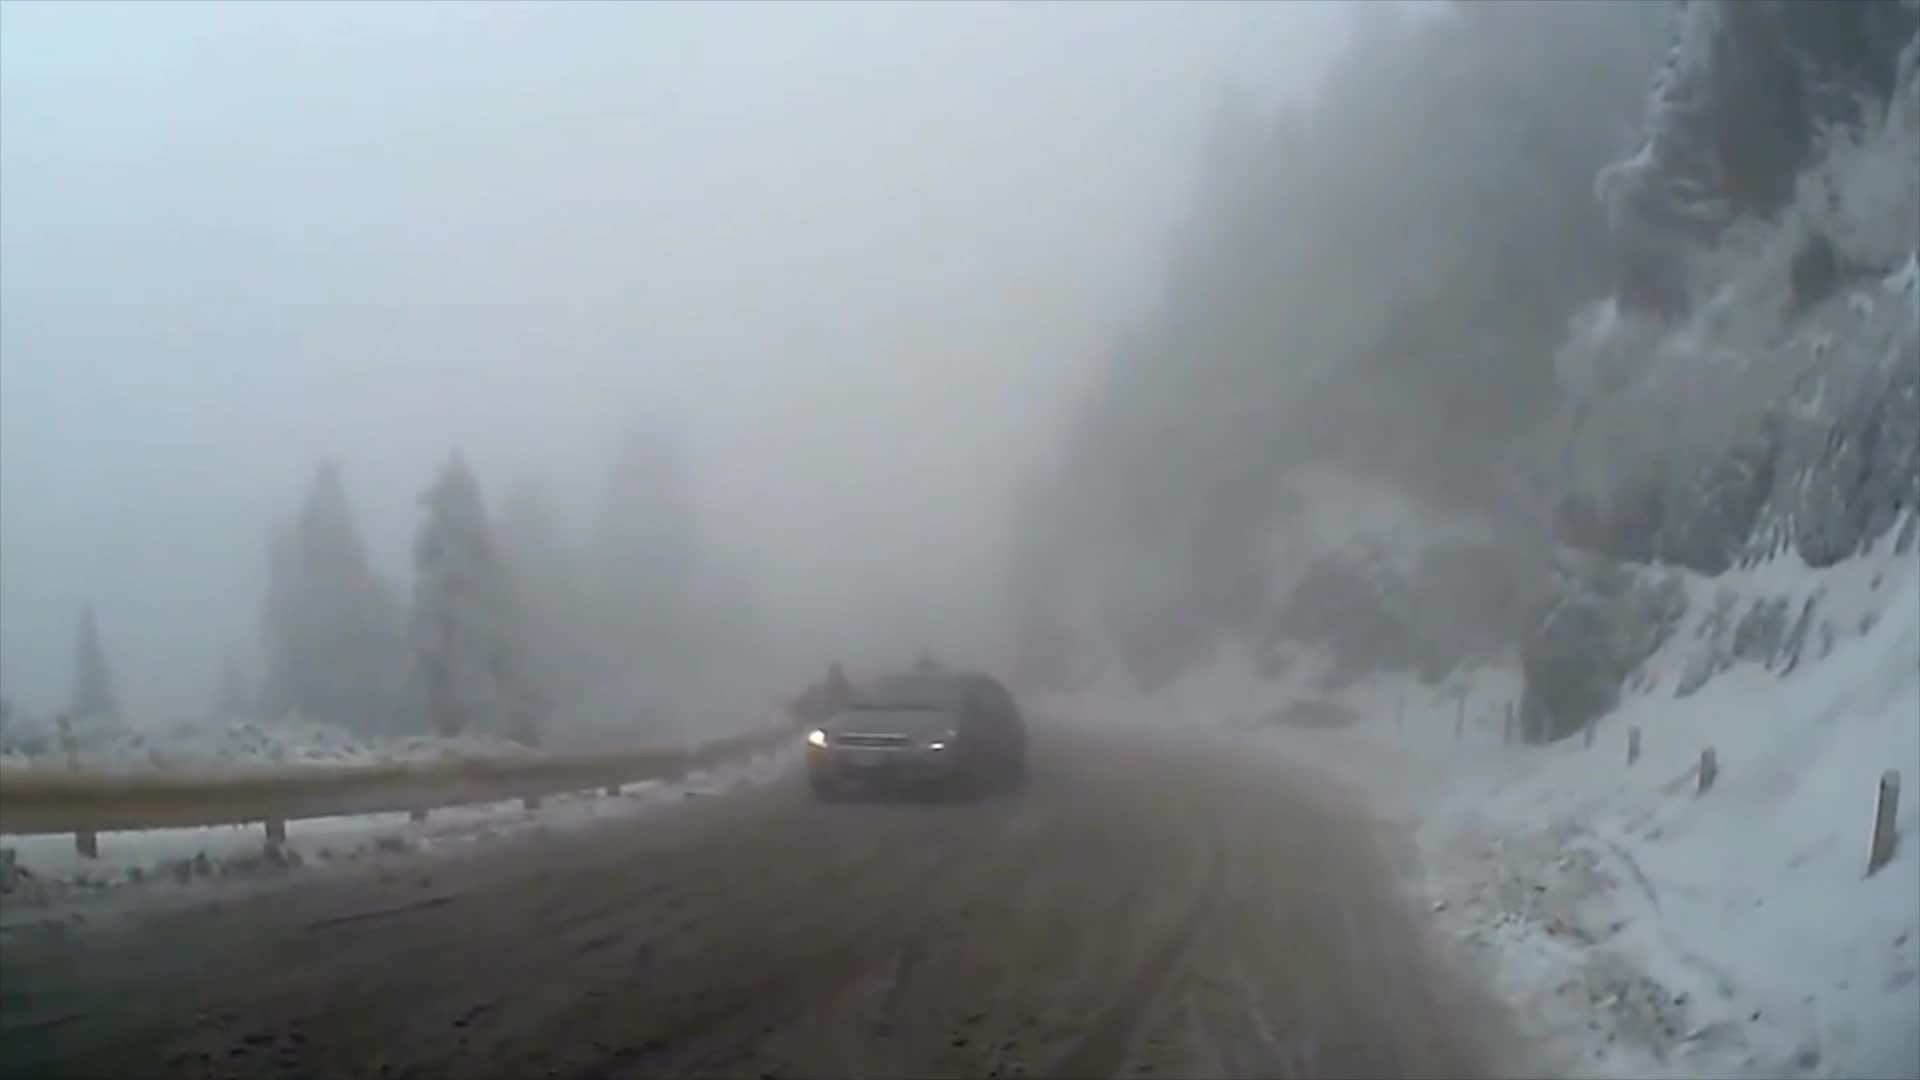vehicle: (808, 671, 1027, 808)
